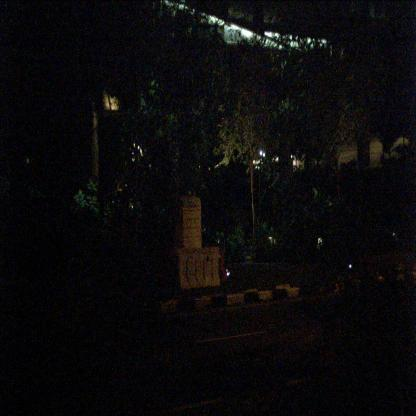movable_object-barrier: (172, 245, 221, 291)
